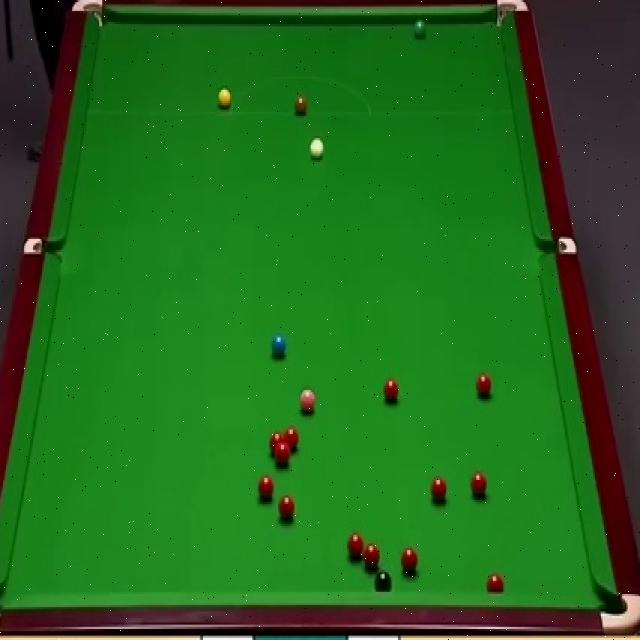black-ball: (374, 568, 393, 594)
blue-ball: (270, 334, 286, 361)
brown-ball: (292, 92, 308, 118)
green-ball: (411, 18, 428, 40)
pink-ball: (300, 384, 316, 414)
red-ball: (363, 540, 381, 574), (277, 494, 296, 524), (383, 376, 401, 406), (400, 547, 418, 576), (259, 473, 277, 501), (347, 531, 364, 560), (470, 471, 487, 498), (476, 371, 492, 399), (430, 477, 447, 503), (284, 427, 300, 454), (487, 572, 505, 594), (276, 445, 290, 467), (270, 432, 284, 454)
white-ball: (308, 136, 325, 162)
yellow-ball: (216, 86, 231, 108)
